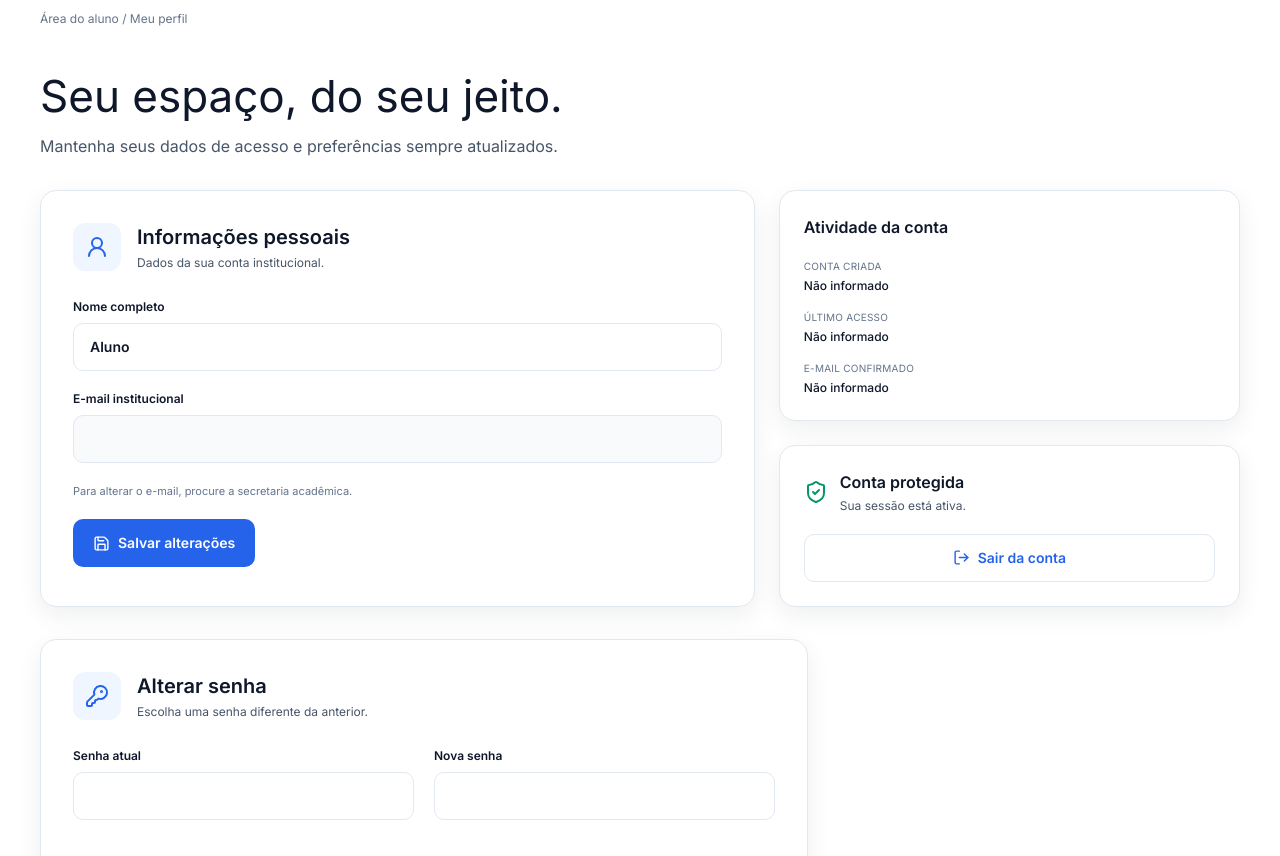
Test: recusa alteração de senha quando a sessão não possui e-mail
In the password field labelled "Senha atual": (244, 796) [73,772,414,820], type "senhaAnterior"
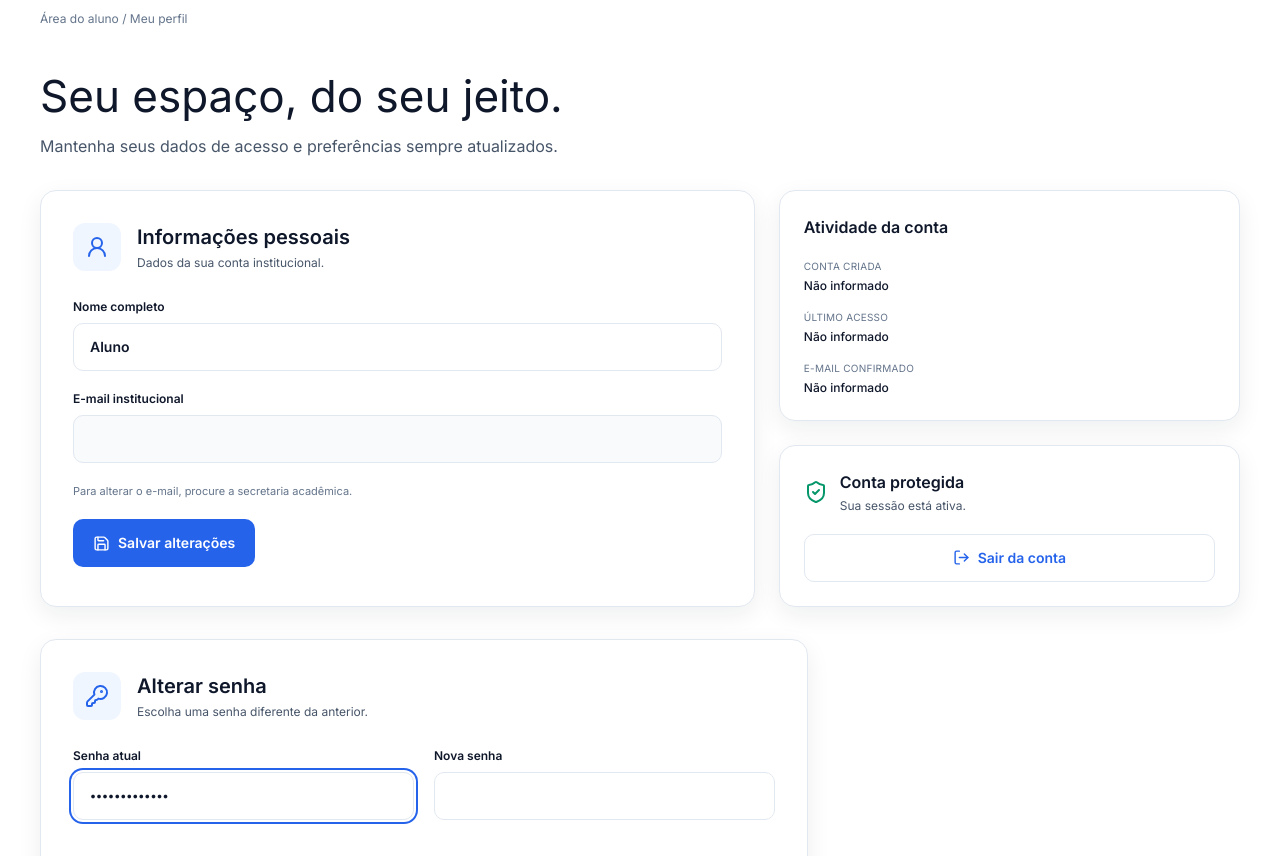
In the password field labelled "Nova senha": (604, 796) [434,772,775,820], type "novaSenha123"
(page scrolled)
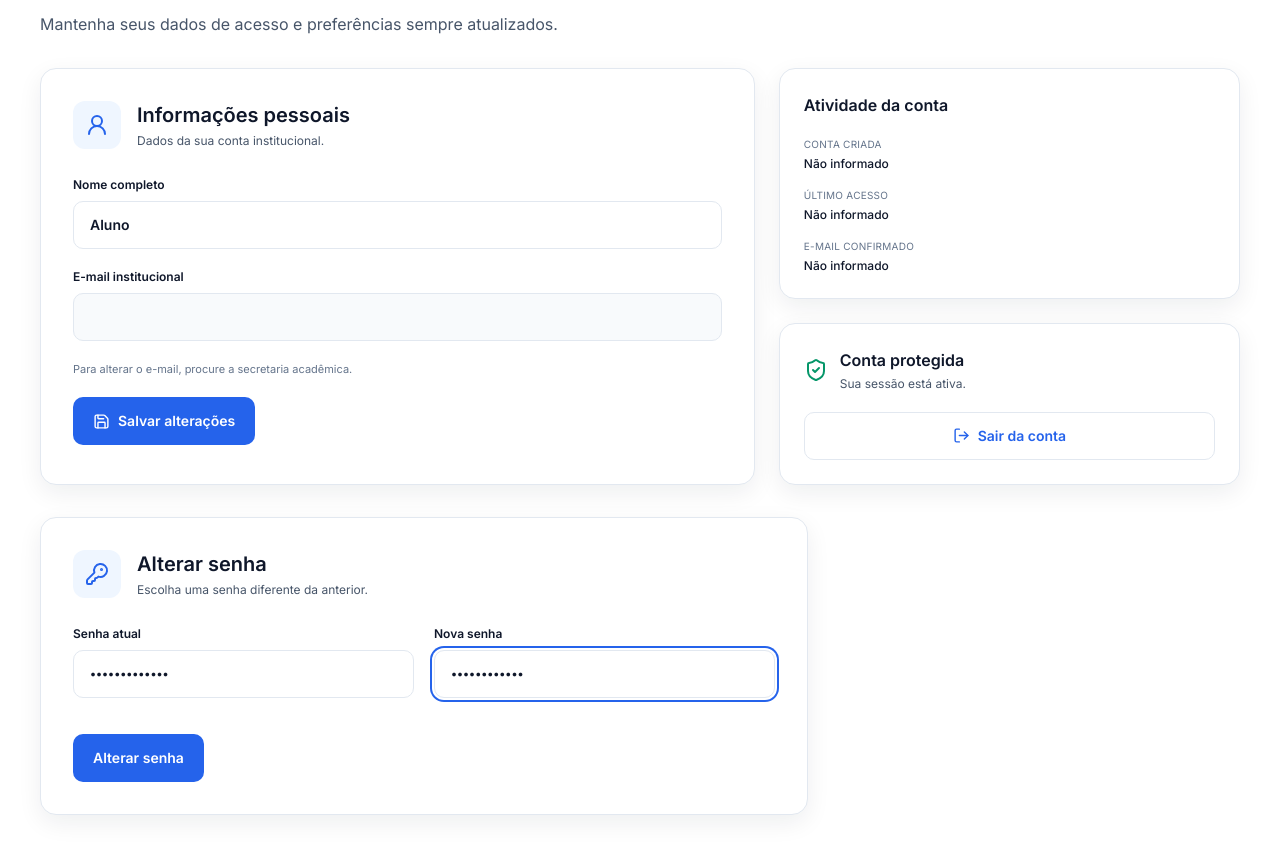
Click the button "Alterar senha": (138, 758) [73,734,204,782]
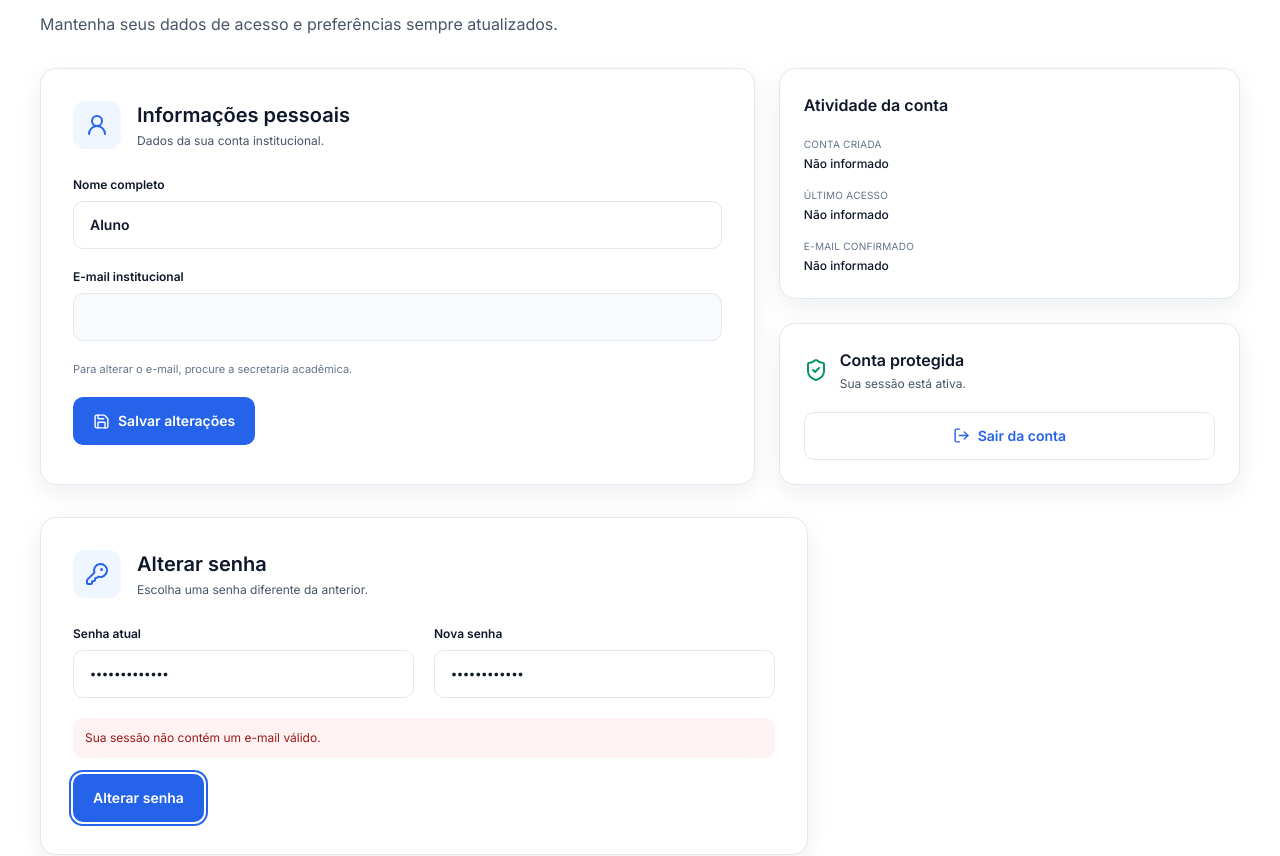
Expected: the message shows "e-mail válido", [85,730,321,745]
